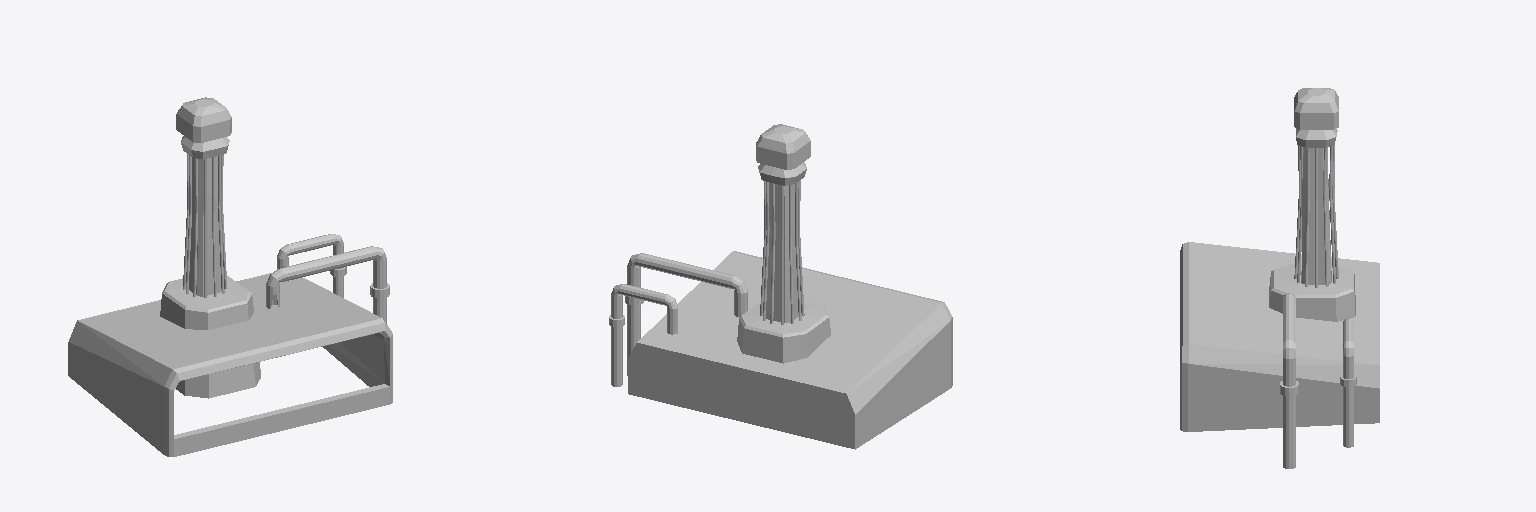
The model's file is Tombol Puzzle.obj.
The picture shows the model from 3 angles: view 1: azimuth 30°, elevation 25°; view 2: azimuth 150°, elevation 25°; view 3: azimuth 270°, elevation 25°; orthographic projection.
Parts seen in each view (by area): view 1: Base Tombol_Puzzle, Tombol_Puzzle Main_body, Tombol_Puzzle Pipa, Tombol_Puzzle pCylinder68, Tombol_Puzzle Push_button; view 2: Base Tombol_Puzzle, Tombol_Puzzle Main_body, Tombol_Puzzle Pipa, Tombol_Puzzle pCylinder68, Tombol_Puzzle Push_button; view 3: Base Tombol_Puzzle, Tombol_Puzzle Main_body, Tombol_Puzzle Pipa, Tombol_Puzzle pCylinder68, Tombol_Puzzle Push_button.
Boxes of the visible parts, box(x1,y1,x2,y2) form: Base Tombol_Puzzle: box(68, 273, 392, 456); Tombol_Puzzle Main_body: box(160, 136, 260, 398); Tombol_Puzzle Pipa: box(266, 234, 389, 323); Tombol_Puzzle pCylinder68: box(183, 154, 226, 297); Tombol_Puzzle Push_button: box(176, 97, 231, 142); Base Tombol_Puzzle: box(628, 251, 952, 449); Tombol_Puzzle Main_body: box(737, 162, 830, 363); Tombol_Puzzle Pipa: box(609, 253, 747, 386); Tombol_Puzzle pCylinder68: box(760, 180, 804, 324); Tombol_Puzzle Push_button: box(756, 124, 810, 169); Base Tombol_Puzzle: box(1180, 242, 1379, 431); Tombol_Puzzle Main_body: box(1269, 128, 1355, 321); Tombol_Puzzle Pipa: box(1280, 293, 1356, 468); Tombol_Puzzle pCylinder68: box(1294, 145, 1338, 287); Tombol_Puzzle Push_button: box(1294, 88, 1338, 129).
Bounding box in the file's own units: 39.93 × 40.97 × 25.24.